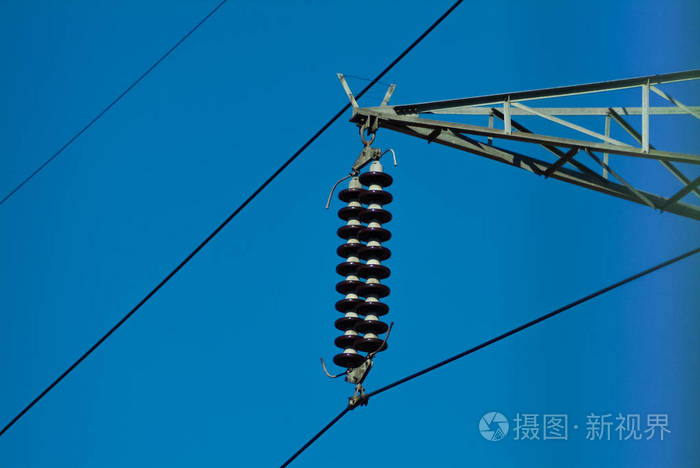insulator: (332, 170, 395, 372)
